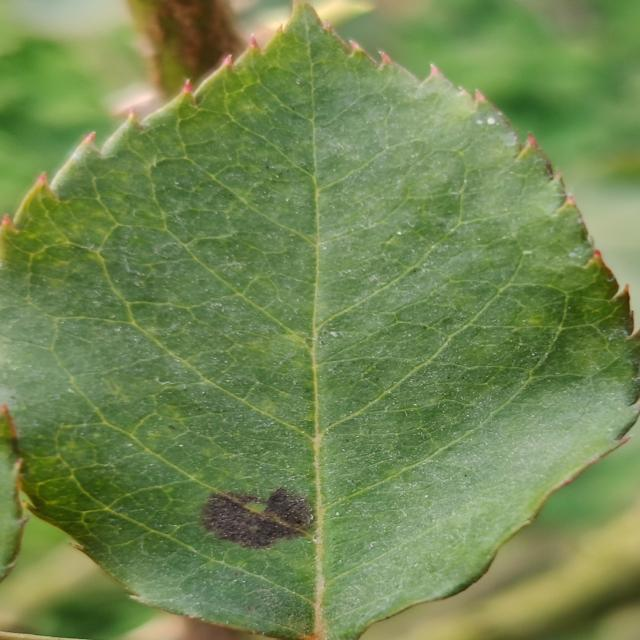Black_spot: (197, 483, 316, 552)
Rose: (0, 1, 638, 638)
